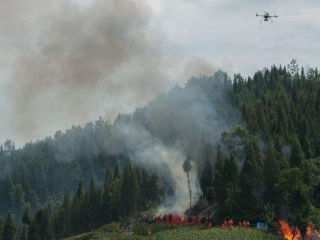smoke: (128, 48, 242, 173), (119, 121, 204, 220)
